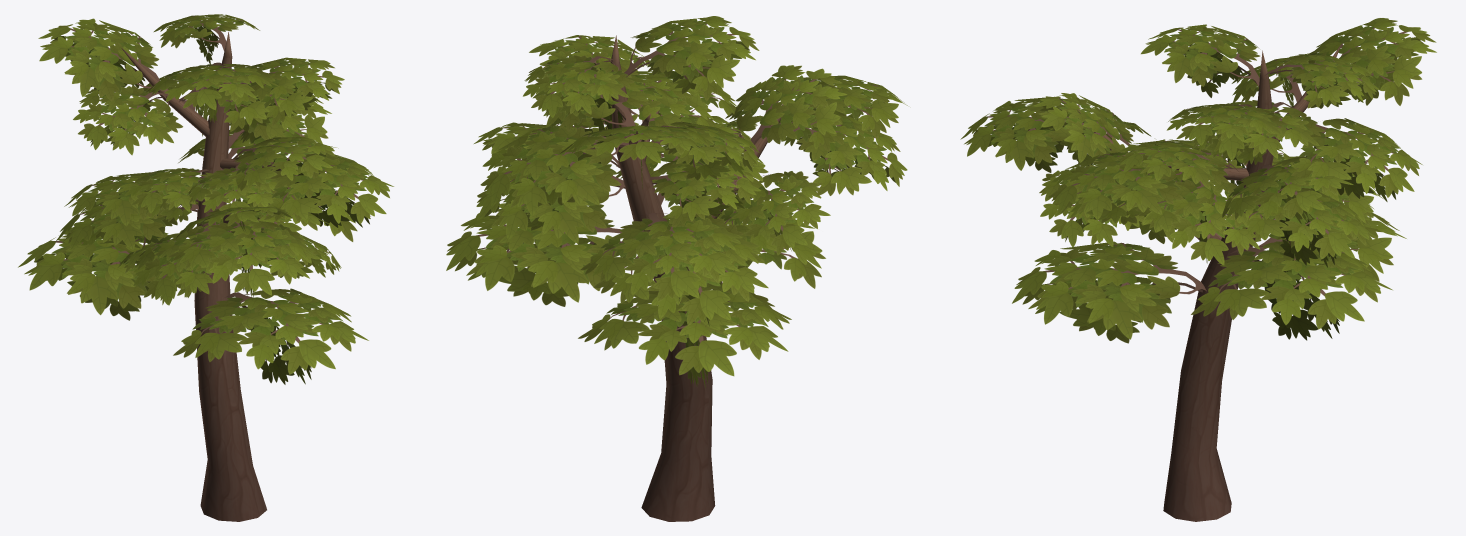
File: oak_2.fbx
The picture shows the model from 3 angles, left to right: view 1: azimuth 30°, elevation 25°; view 2: azimuth 150°, elevation 25°; view 3: azimuth 270°, elevation 25°; orthographic projection. The views are drawn at different scales.
Parts seen in each view (by area): view 1: Oak-2; view 2: Oak-2; view 3: Oak-2.
Boxes of the visible parts, bbox=[...] form: Oak-2: bbox=[18, 14, 393, 521]; Oak-2: bbox=[446, 16, 907, 521]; Oak-2: bbox=[960, 18, 1436, 521].
Size of the model in its own units: 171 by 219 by 210.
